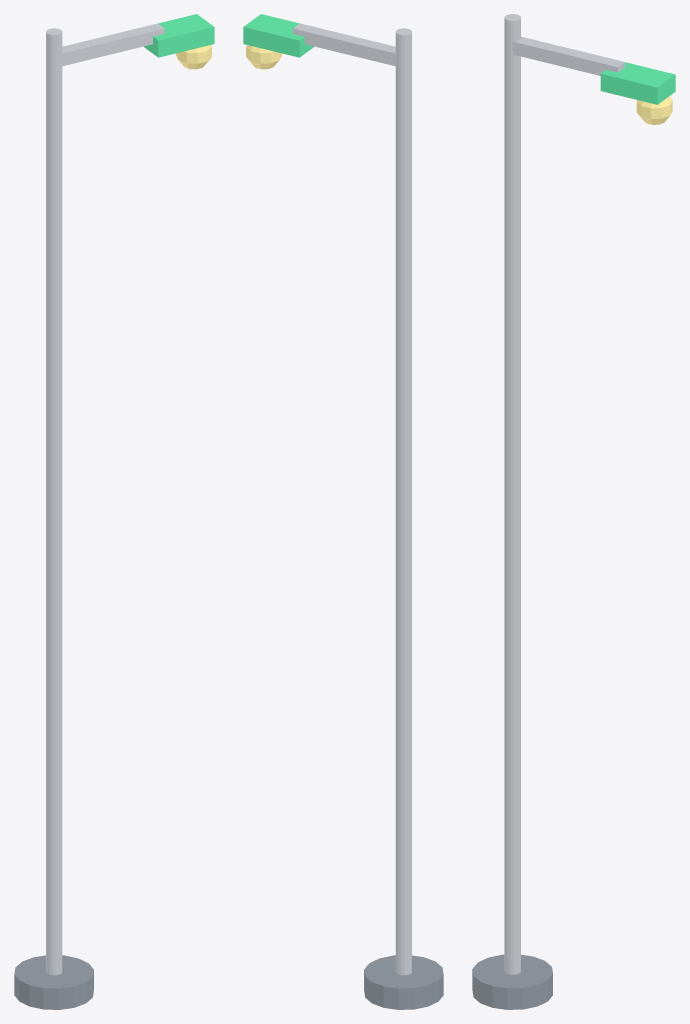
File: den-led-9m.gltf
3 views of the same model, side by side, from view 1: azimuth 30°, elevation 25°; view 2: azimuth 150°, elevation 25°; view 3: azimuth 330°, elevation 25° (orthographic).
Visible parts, largest first — view 1: pole, base, arm, lampHead, lampGlow; view 2: pole, base, arm, lampHead, lampGlow; view 3: pole, base, lampHead, arm, lampGlow.
Boxes of the visible parts, x1,y1,x2,y2 form: pole: (46, 28, 62, 975); base: (14, 955, 93, 1009); arm: (61, 23, 164, 66); lampHead: (144, 14, 214, 57); lampGlow: (176, 45, 211, 69); pole: (395, 28, 411, 975); base: (364, 955, 443, 1009); arm: (293, 23, 396, 66); lampHead: (243, 14, 313, 57); lampGlow: (246, 45, 281, 69); pole: (504, 14, 520, 974); base: (472, 954, 552, 1009); lampHead: (600, 62, 675, 104); arm: (512, 36, 624, 75); lampGlow: (636, 96, 672, 124).
Bounding box in the file's own units: 1.86 × 9 × 0.68.
